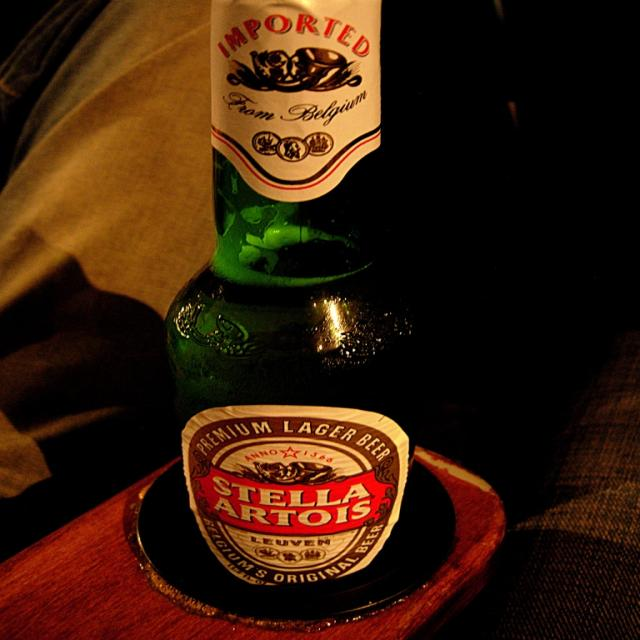stellaartois: (183, 417, 401, 587)
